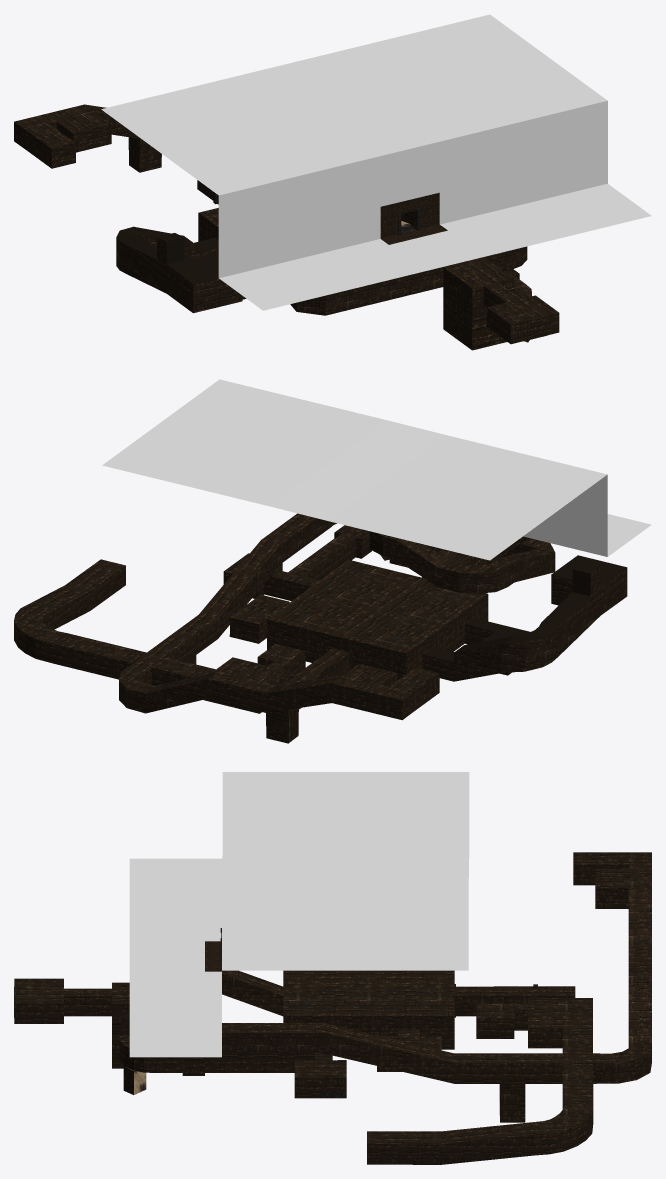
File: area1.fbx
3 views of the same model, one above another, from view 1: azimuth 30°, elevation 25°; view 2: azimuth 150°, elevation 25°; view 3: azimuth 270°, elevation 25° (orthographic). The views are drawn at different scales.
Visible parts, largest first — view 1: Cube.002, Cube; view 2: Cube, Cube.002; view 3: Cube.002, Cube.
Boxes of the visible parts, left/top/right/bottom form: Cube.002: left=101, top=14, right=651, bottom=310; Cube: left=14, top=104, right=559, bottom=350; Cube: left=14, top=513, right=627, bottom=743; Cube.002: left=102, top=379, right=651, bottom=560; Cube.002: left=129, top=772, right=469, bottom=1057; Cube: left=14, top=852, right=651, bottom=1164.
Size of the model in its own units: 24500 by 9597 by 28006.
